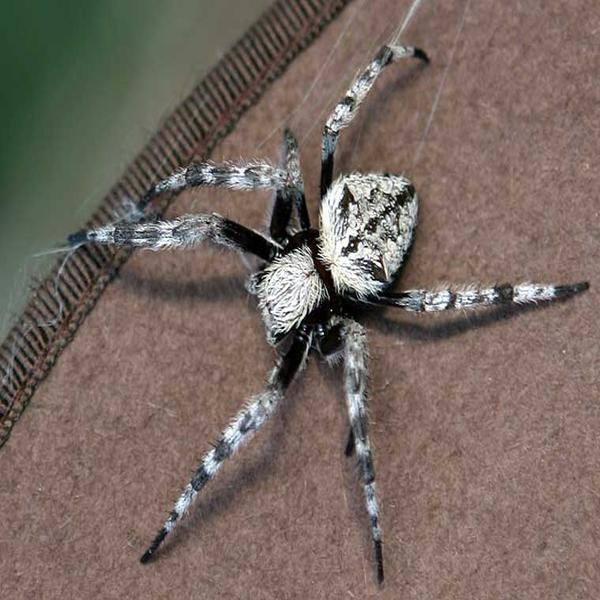Garden Orb Weaver Spider: (107, 52, 551, 542)
